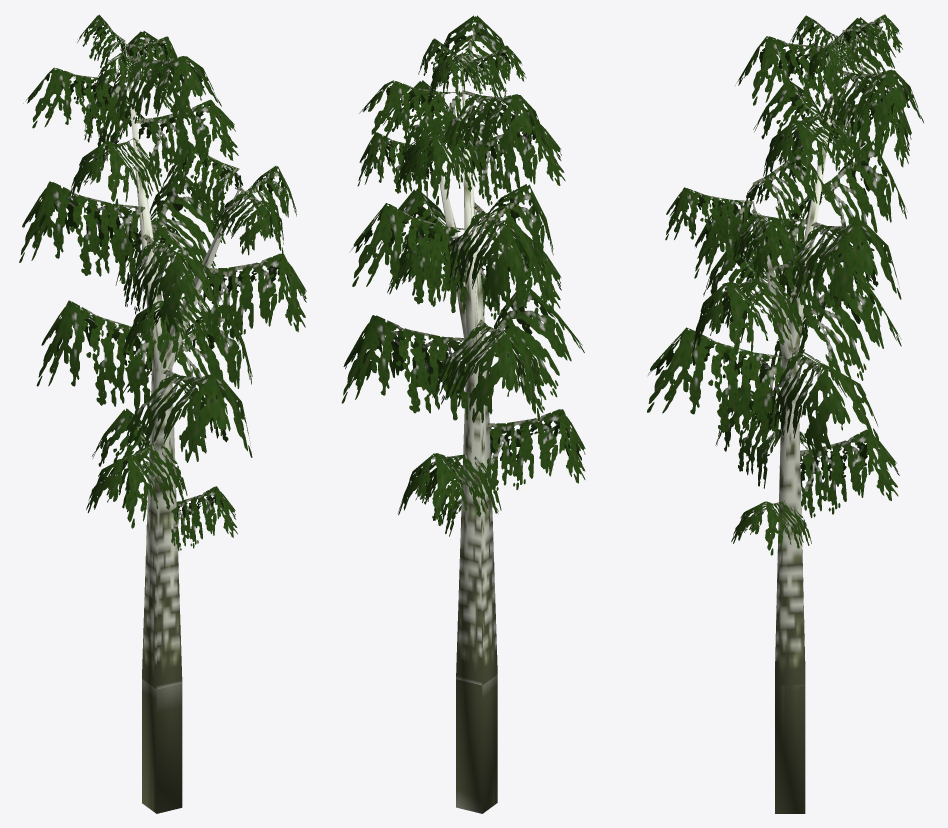
The model's file is birch_tree_2_17.dae.
The picture shows the model from 3 angles, left to right: view 1: azimuth 30°, elevation 25°; view 2: azimuth 150°, elevation 25°; view 3: azimuth 270°, elevation 25°; orthographic projection. The views are drawn at different scales.
Visible parts, largest first — view 1: Plane.012; view 2: Plane.012; view 3: Plane.012.
Part boxes in pixels (box(x1,y1,x2,y2)): Plane.012: box(19, 14, 306, 813); Plane.012: box(341, 15, 585, 813); Plane.012: box(647, 14, 923, 813).
Size of the model in its own units: 0.2292 by 0.2327 by 0.6811.
1 material, 1 textured.
